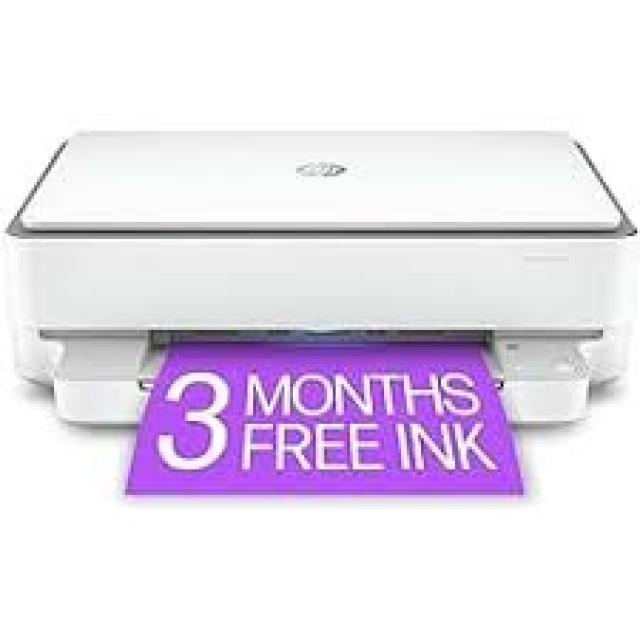printer: (0, 125, 637, 430)
